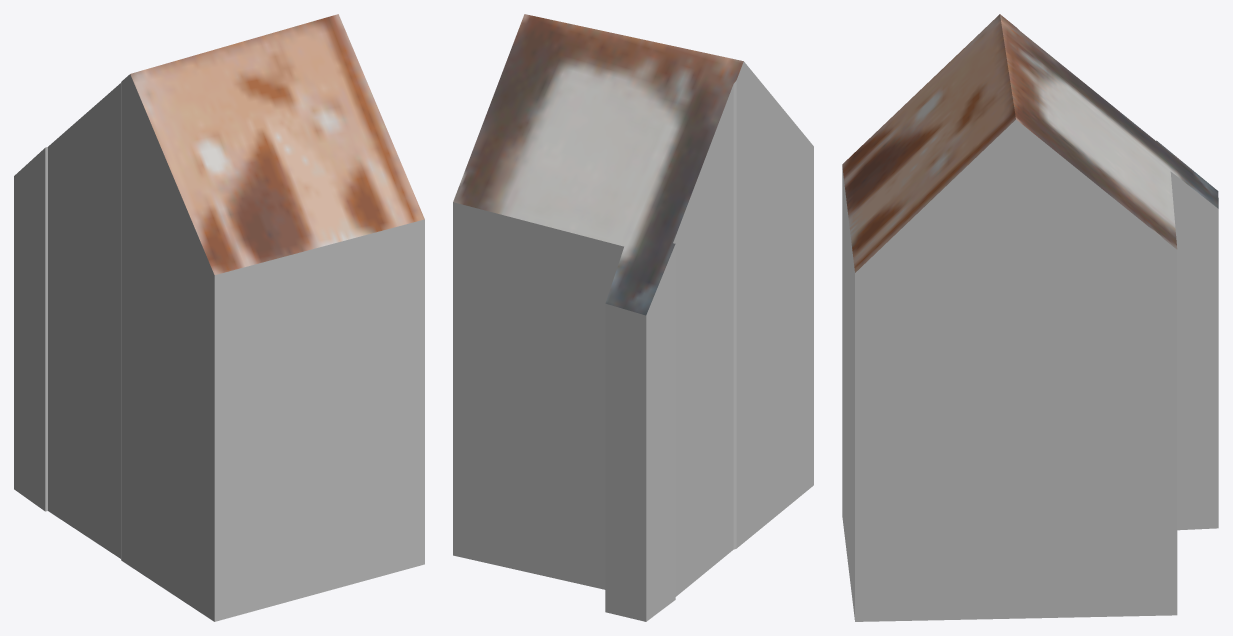
The model's file is DEBW_0010007Tx8o.gltf.
3 views of the same model, side by side, from view 1: azimuth 30°, elevation 25°; view 2: azimuth 150°, elevation 25°; view 3: azimuth 270°, elevation 25° (orthographic). The views are drawn at different scales.
Visible parts, largest first — view 1: Z_UP; view 2: Z_UP; view 3: Z_UP.
Boxes of the visible parts, x1,y1,x2,y2 form: Z_UP: (14,14,424,621); Z_UP: (453,14,813,621); Z_UP: (842,14,1218,621).
Bounding box in the file's own units: 10.87 × 22.19 × 15.17.
Materials: 2 (1 with a texture image).
